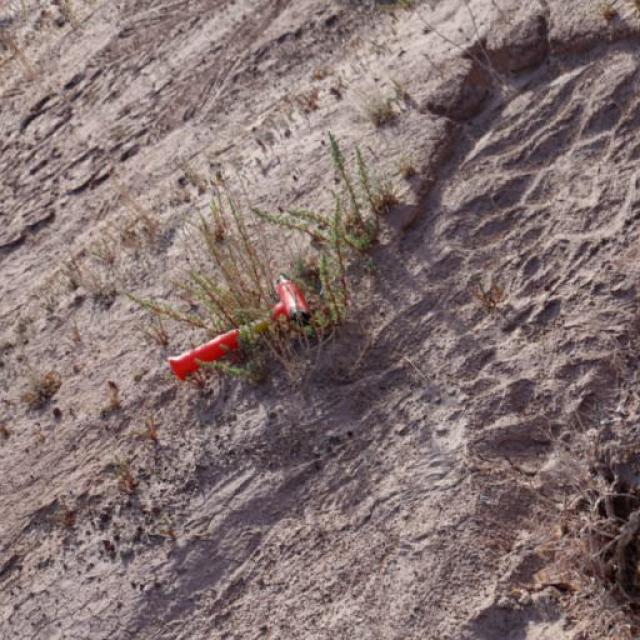mallet: (165, 275, 313, 381)
